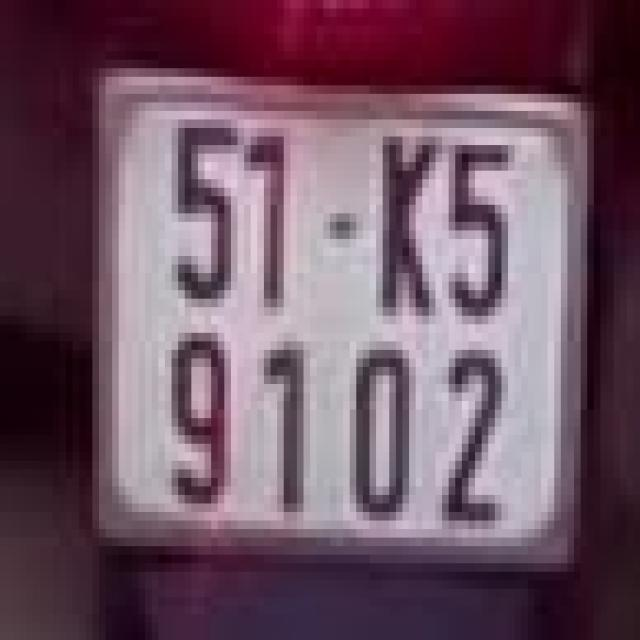0: (340, 337, 419, 525)
1: (241, 119, 307, 316), (257, 328, 317, 525)
2: (436, 346, 514, 524)
5: (155, 102, 234, 308), (445, 124, 518, 328)
9: (162, 307, 234, 512)
K: (360, 111, 446, 341)
